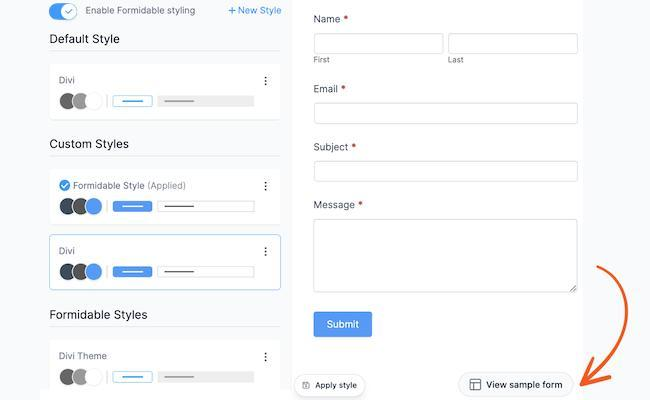button: (459, 372, 575, 398), (294, 374, 367, 399), (315, 312, 373, 339), (113, 95, 155, 109), (113, 200, 154, 213), (113, 267, 154, 280), (113, 372, 154, 385)
icon: (262, 244, 272, 261), (263, 351, 271, 368), (262, 73, 271, 88), (262, 180, 270, 195), (226, 7, 237, 16)
input: (315, 105, 579, 125), (316, 163, 579, 182), (449, 35, 579, 55), (316, 34, 445, 54)
label: (50, 309, 149, 326), (86, 6, 196, 19), (50, 137, 131, 153), (51, 34, 122, 47), (314, 200, 363, 213), (58, 352, 109, 362), (313, 143, 357, 154), (237, 6, 283, 16), (313, 15, 350, 25), (314, 84, 347, 95), (57, 75, 77, 86)
switch: (50, 3, 79, 21)
